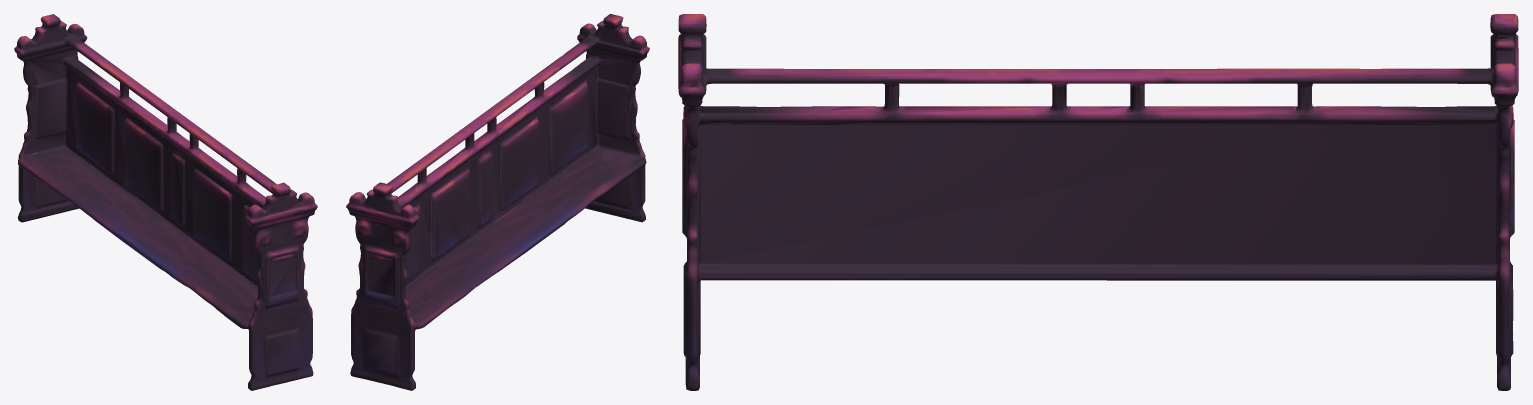
Rendered from PewDecimText.obj.
The picture shows the model from 3 angles, left to right: view 1: azimuth 30°, elevation 25°; view 2: azimuth 150°, elevation 25°; view 3: azimuth 270°, elevation 25°; orthographic projection. The views are drawn at different scales.
Visible parts, largest first — view 1: Box.004; view 2: Box.004; view 3: Box.004.
Part boxes in pixels (<box>): Box.004: <box>14,14,317,390</box>; Box.004: <box>346,14,649,390</box>; Box.004: <box>678,14,1518,390</box>.
Bounding box in the file's own units: 0.7815 × 2.09 × 4.6.
1 material, 1 textured.
